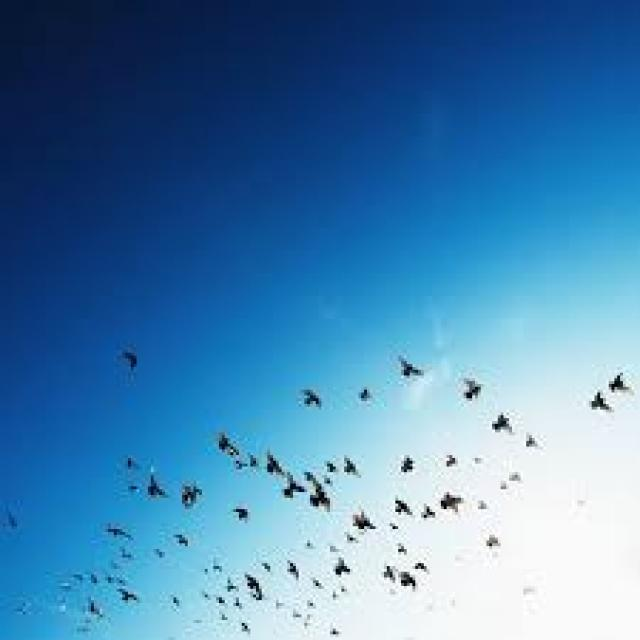bird: (379, 340, 436, 388), (570, 378, 613, 432), (274, 462, 318, 510), (450, 366, 500, 406), (254, 438, 286, 481), (430, 480, 472, 512), (142, 464, 174, 506), (350, 378, 384, 416), (294, 386, 332, 420), (114, 341, 154, 373), (326, 550, 358, 588), (283, 548, 309, 590), (488, 396, 514, 436), (108, 576, 145, 604), (238, 564, 270, 596), (338, 448, 367, 482), (100, 514, 136, 540), (388, 488, 417, 520), (401, 562, 427, 594), (606, 371, 640, 394), (352, 508, 379, 534), (312, 464, 326, 514), (236, 499, 256, 534), (372, 554, 392, 588), (209, 426, 238, 449), (174, 523, 196, 552), (397, 446, 417, 474)
